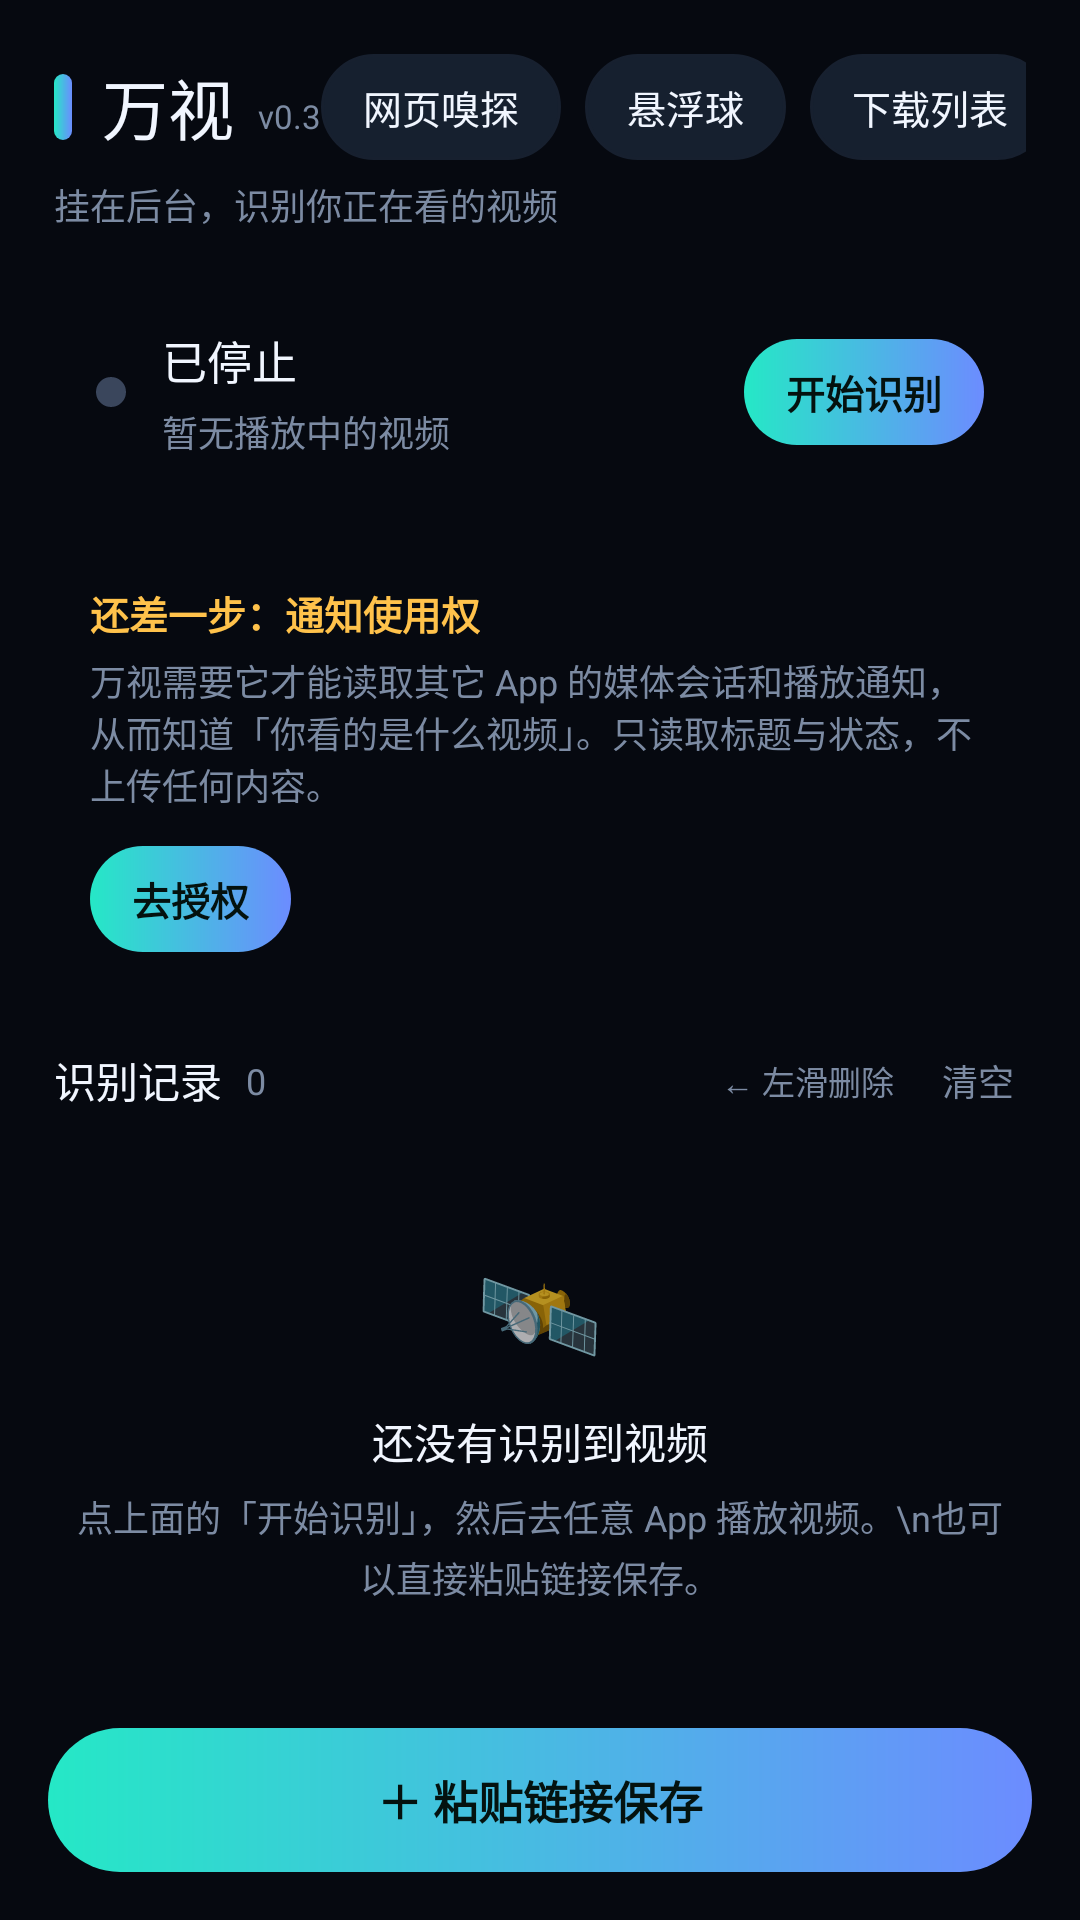

Icon click points for this 1080 x 1920 phone screenshot, format (x,y):
dot off: (111,392)
